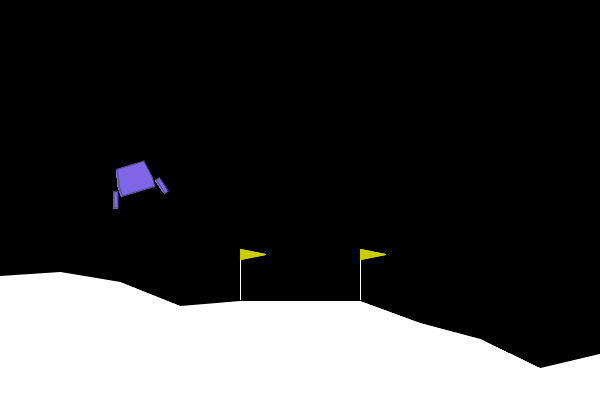lander: (101, 155, 170, 211)
